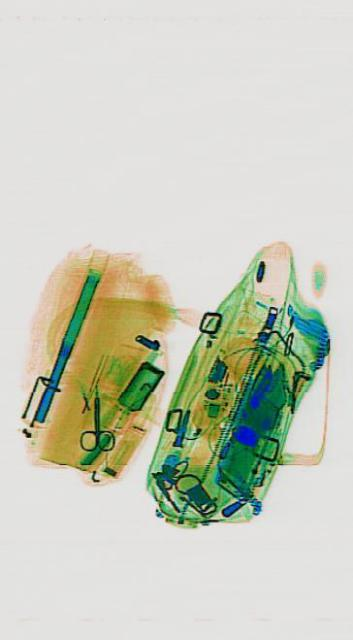Scissors: (77, 382, 113, 450)
